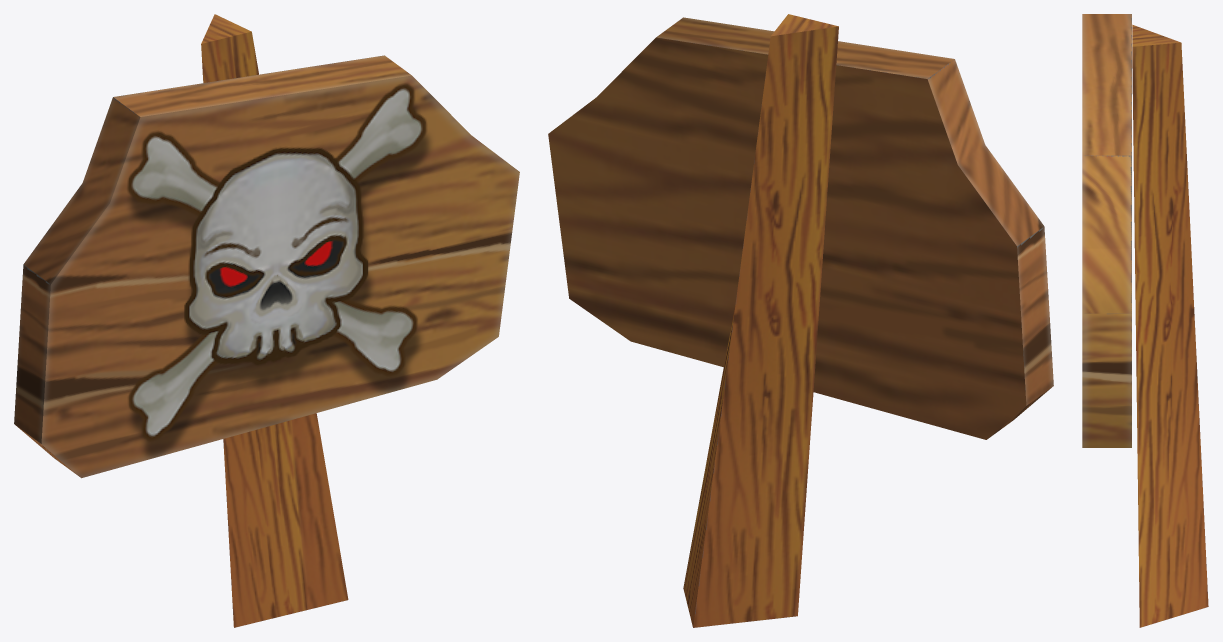
The model's file is danger_sign_board.FBX.
The picture shows the model from 3 angles, left to right: view 1: azimuth 30°, elevation 25°; view 2: azimuth 150°, elevation 25°; view 3: azimuth 270°, elevation 25°; orthographic projection. The views are drawn at different scales.
Visible parts, largest first — view 1: Box080; view 2: Box080; view 3: Box080.
Boxes of the visible parts, box(x1,y1,x2,y2) form: Box080: box(14, 14, 519, 627); Box080: box(548, 14, 1053, 627); Box080: box(1082, 14, 1208, 627).
Bounding box in the file's own units: 279 × 70.63 × 332.
